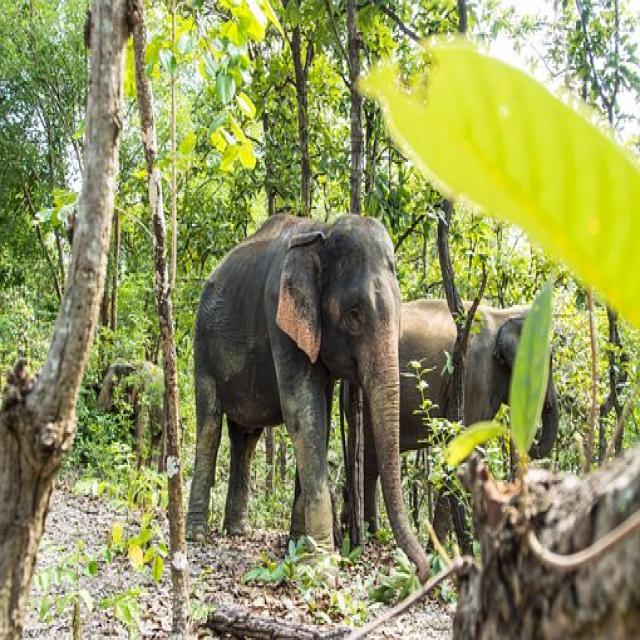Elephant: (171, 178, 434, 596), (363, 283, 587, 457)
